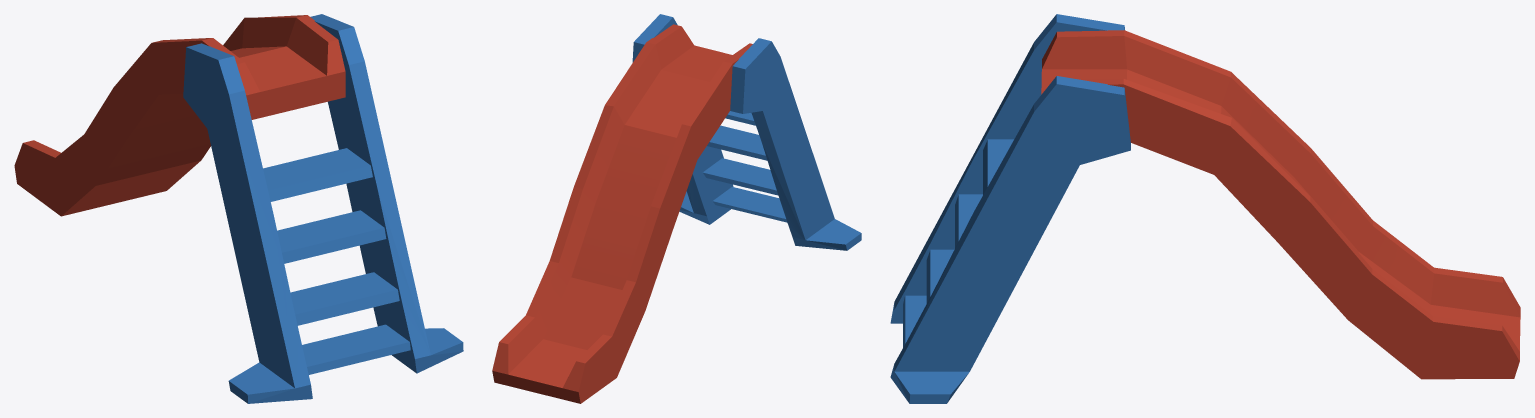
Rendered from SM_Prop_Playground_Slide_01.obj.
3 renders of one model, left to right at view 1: azimuth 30°, elevation 25°; view 2: azimuth 150°, elevation 25°; view 3: azimuth 270°, elevation 25°, orthographic. The views are drawn at different scales.
Visible parts, largest first — view 1: SM_Prop_Playground_Slide_01_0; view 2: SM_Prop_Playground_Slide_01_0; view 3: SM_Prop_Playground_Slide_01_0.
Boxes of the visible parts, x1,y1,x2,y2 form: SM_Prop_Playground_Slide_01_0: [14, 14, 463, 403]; SM_Prop_Playground_Slide_01_0: [492, 14, 861, 403]; SM_Prop_Playground_Slide_01_0: [890, 14, 1520, 403].
Bounding box in the file's own units: 0.9492 × 1.21 × 2.27.
Materials: 1 (1 with a texture image).
